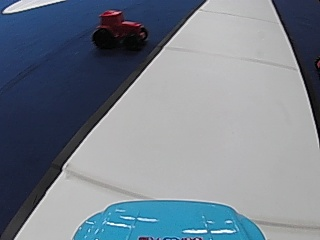tractor: (92, 7, 148, 52)
